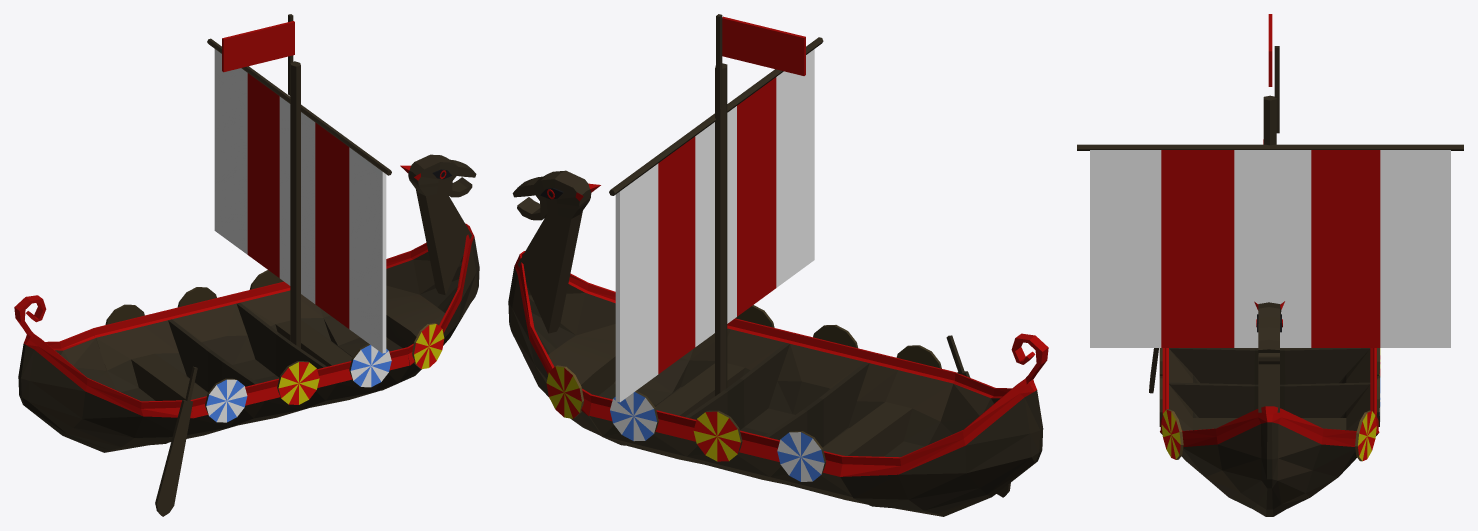
The model's file is Ship_03.fbx.
3 views of the same model, side by side, from view 1: azimuth 30°, elevation 25°; view 2: azimuth 150°, elevation 25°; view 3: azimuth 270°, elevation 25° (orthographic). The views are drawn at different scales.
Parts seen in each view (by area): view 1: Ship_03, Sail, Flag, Rudder; view 2: Ship_03, Sail, Flag; view 3: Sail, Ship_03.
Boxes of the visible parts, x1=… form: Ship_03: x1=14, y1=14, x2=479, y2=452; Sail: x1=214, y1=49, x2=386, y2=353; Flag: x1=222, y1=21, x2=294, y2=72; Rudder: x1=155, y1=366, x2=197, y2=516; Ship_03: x1=508, y1=14, x2=1048, y2=516; Sail: x1=615, y1=49, x2=814, y2=402; Flag: x1=722, y1=16, x2=805, y2=75; Sail: x1=1090, y1=150, x2=1450, y2=347; Ship_03: x1=1077, y1=46, x2=1463, y2=516.
Bounding box in the file's own units: 2431 × 2076 × 1640.
